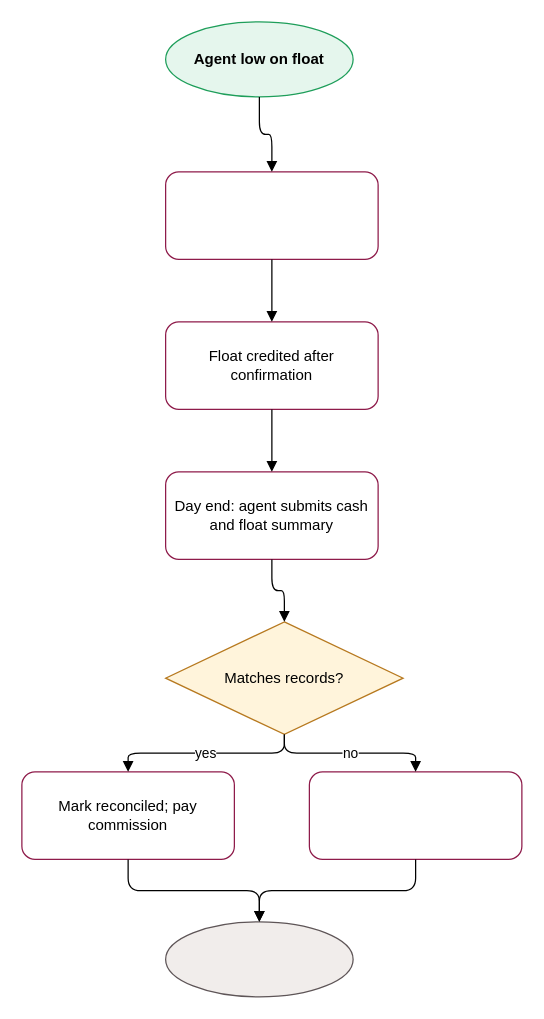
Some shapes in this 544 by 1019 pixel diagram are drawn without their labels. The centre of each missing label's shape, as x and y in pixels:
"Done" goes at point (258, 959).
"Raise exception; staff review" goes at point (415, 815).
"Top up float by transfer or deposit" goes at point (271, 215).
